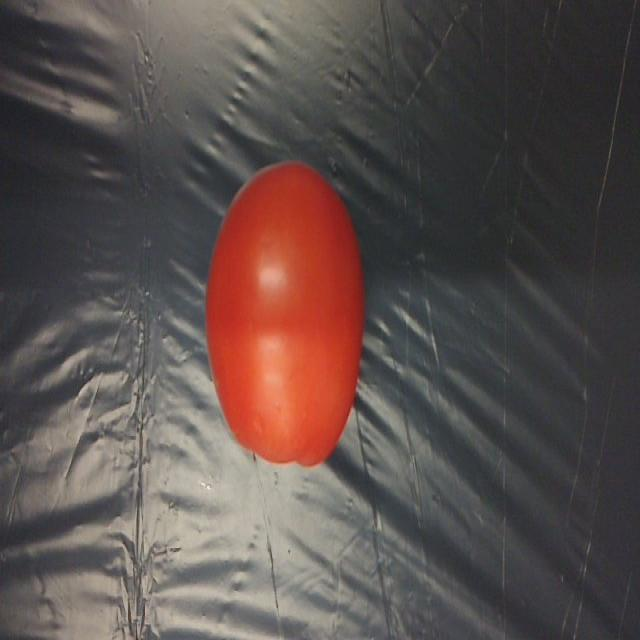sari: (199, 166, 364, 474)
